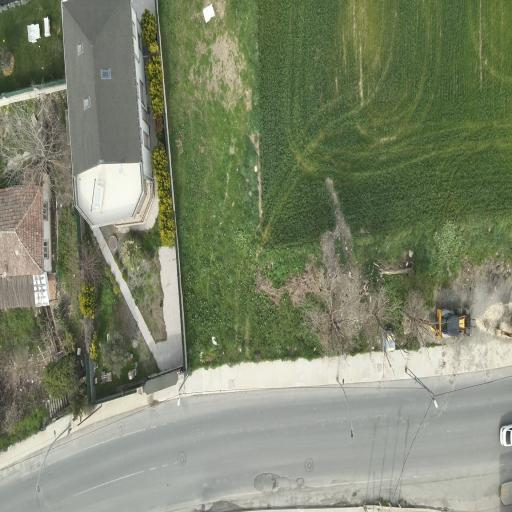car: (499, 424, 512, 446), (500, 482, 512, 505)
